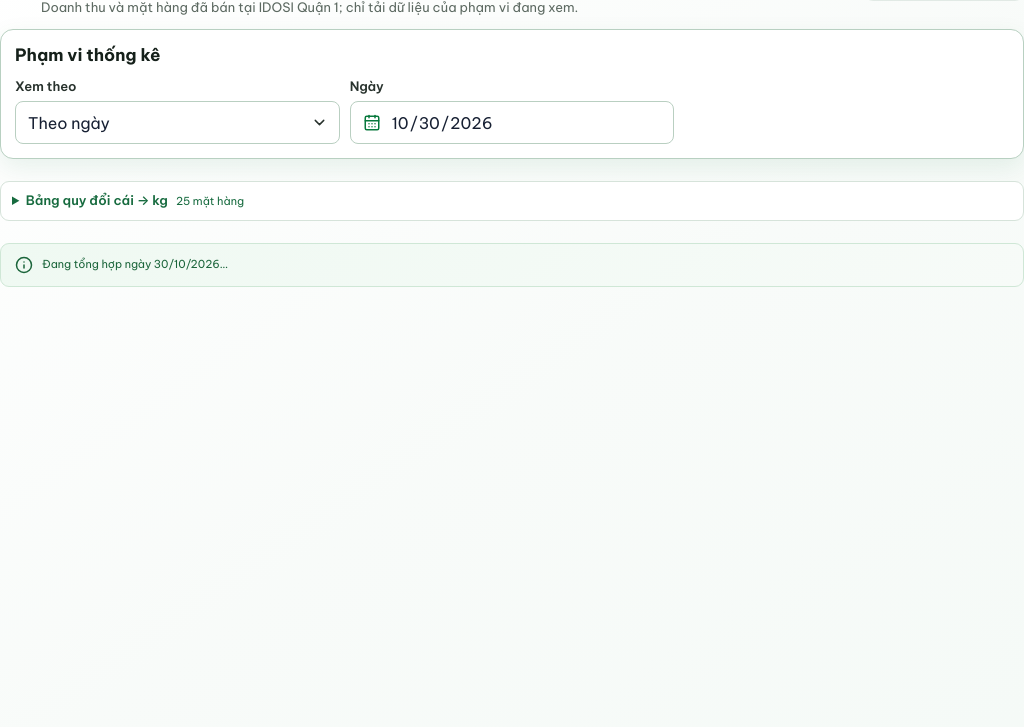
Test: StoreStatisticsPage › ignores out-of-order responses from an older date without confusing the reference table with sold products
Type "2026-08-12" into the date field named "Ngày thống kê" at (526, 122), box [390, 102, 661, 143]
(page scrolled)
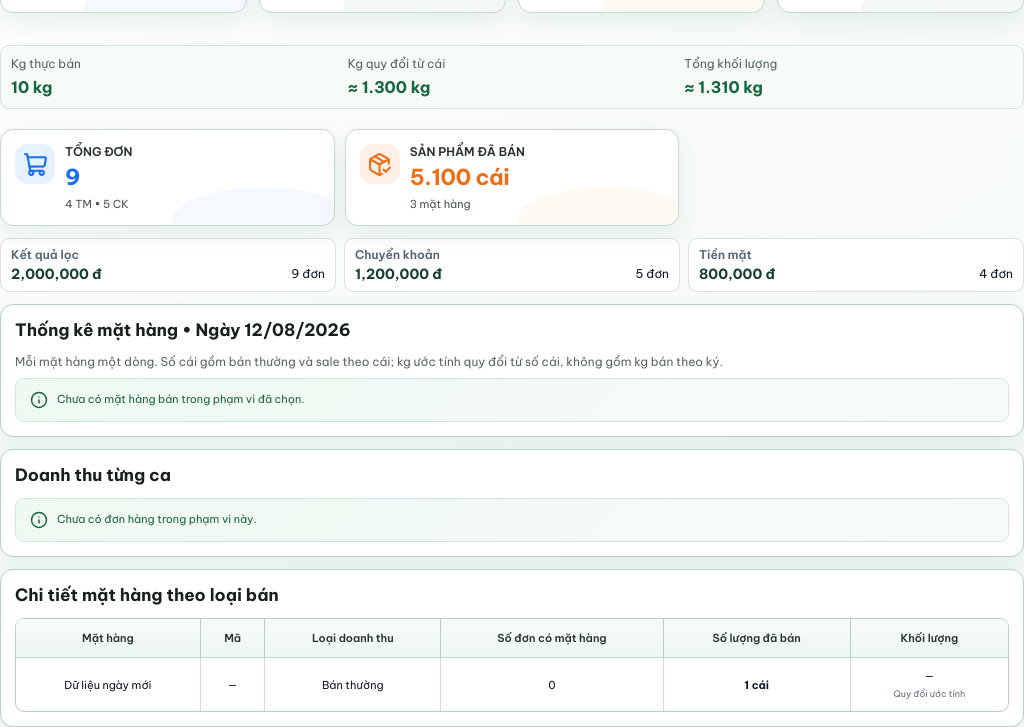
Now the text "Dữ liệu ngày mới" is shown, box [16, 658, 200, 711]
